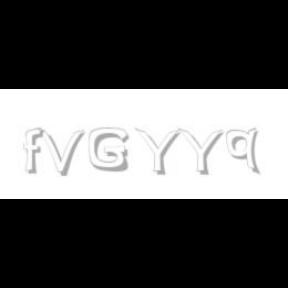G: (89, 128, 129, 172)
V: (37, 128, 85, 176)
Y: (134, 128, 180, 176), (177, 128, 223, 176)
f: (23, 128, 47, 174)
q: (226, 128, 262, 176)
